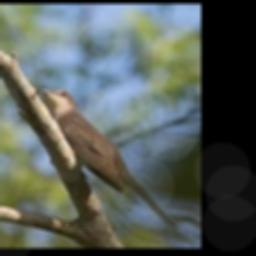Cuckoo: (39, 88, 177, 231)
